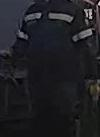vest: (21, 0, 88, 68)
